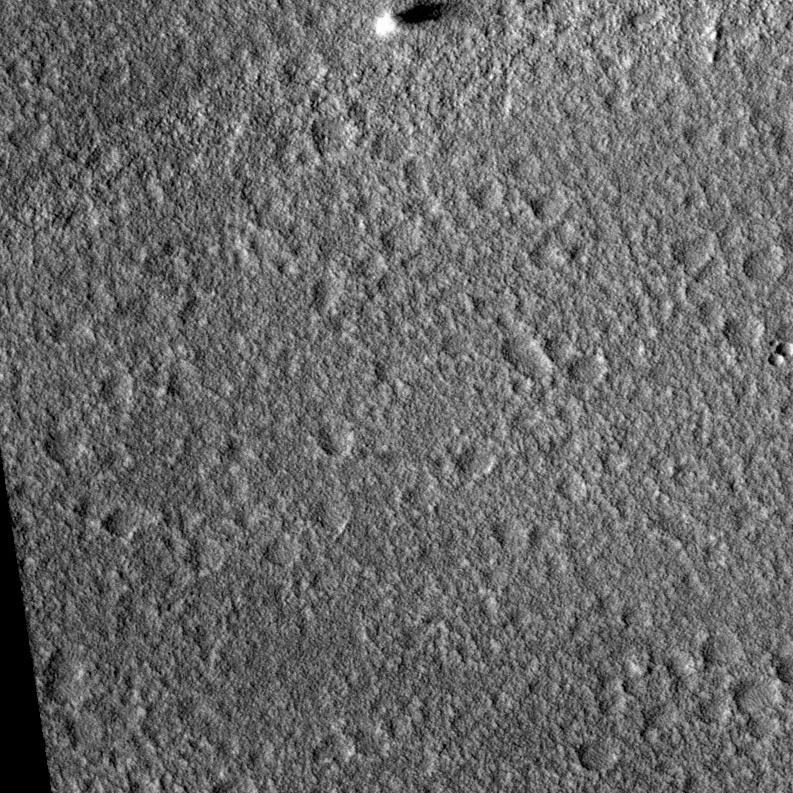dust_devil: (370, 0, 450, 43)
